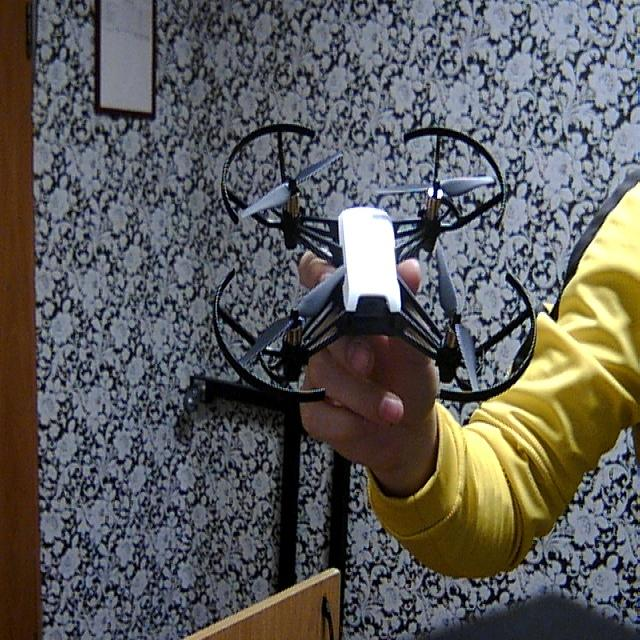drone: (198, 100, 546, 412)
